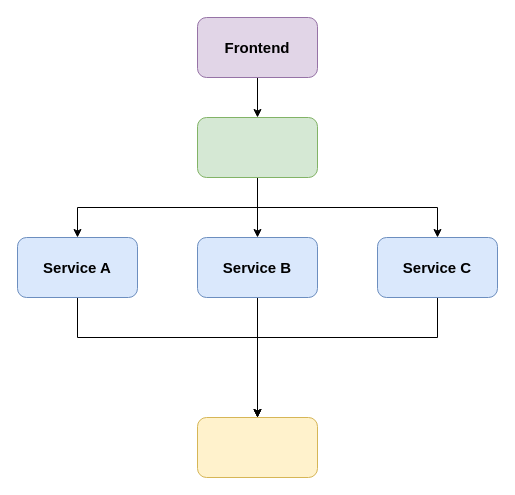
Image size: 515x495. Some labels were removed from this diagram. The shapes that lost their labels are listed below. From the top down, each one's centre as x and y in pixels, then its label:
the point at 257,147: API Gateway
the point at 257,447: Consul Server
